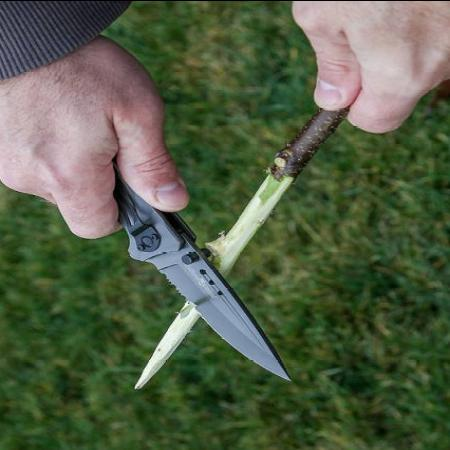long weapon: (44, 142, 304, 392)
